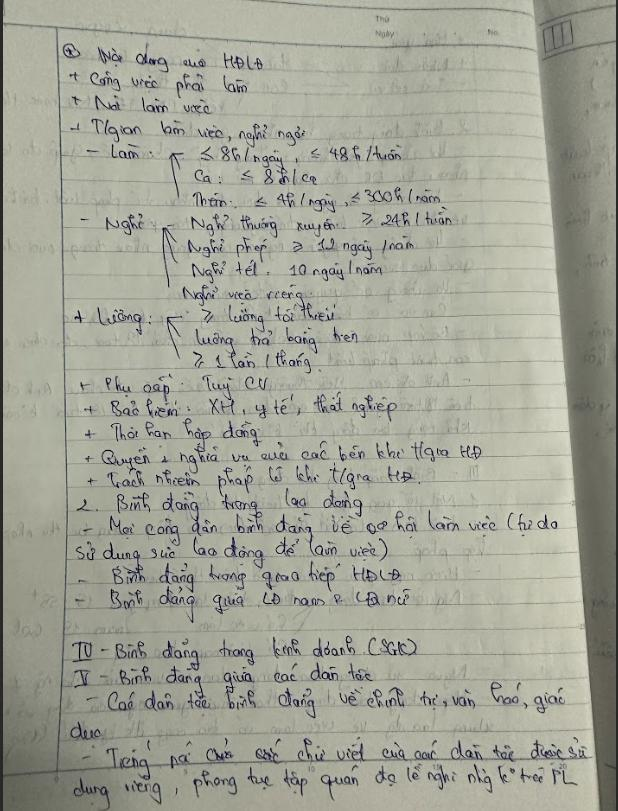text: (82, 734, 589, 782), (72, 764, 577, 811), (104, 679, 567, 722), (76, 505, 561, 545), (82, 438, 485, 477), (77, 585, 412, 627), (68, 634, 420, 673), (72, 534, 389, 572), (71, 660, 376, 699), (86, 461, 415, 497), (76, 559, 404, 595), (83, 389, 399, 425), (75, 486, 365, 522), (188, 205, 455, 239), (69, 115, 307, 148), (190, 184, 443, 215), (185, 233, 416, 264), (58, 42, 265, 75), (81, 416, 262, 451), (192, 143, 404, 172), (76, 372, 269, 403), (189, 257, 384, 286), (194, 323, 361, 356), (69, 69, 250, 97), (201, 301, 337, 334), (180, 281, 307, 310), (192, 349, 315, 377), (66, 95, 215, 118), (192, 165, 321, 187), (75, 303, 145, 337), (77, 210, 145, 237), (83, 139, 143, 163), (67, 717, 104, 745), (372, 26, 396, 40), (374, 13, 392, 26), (485, 26, 502, 37)
